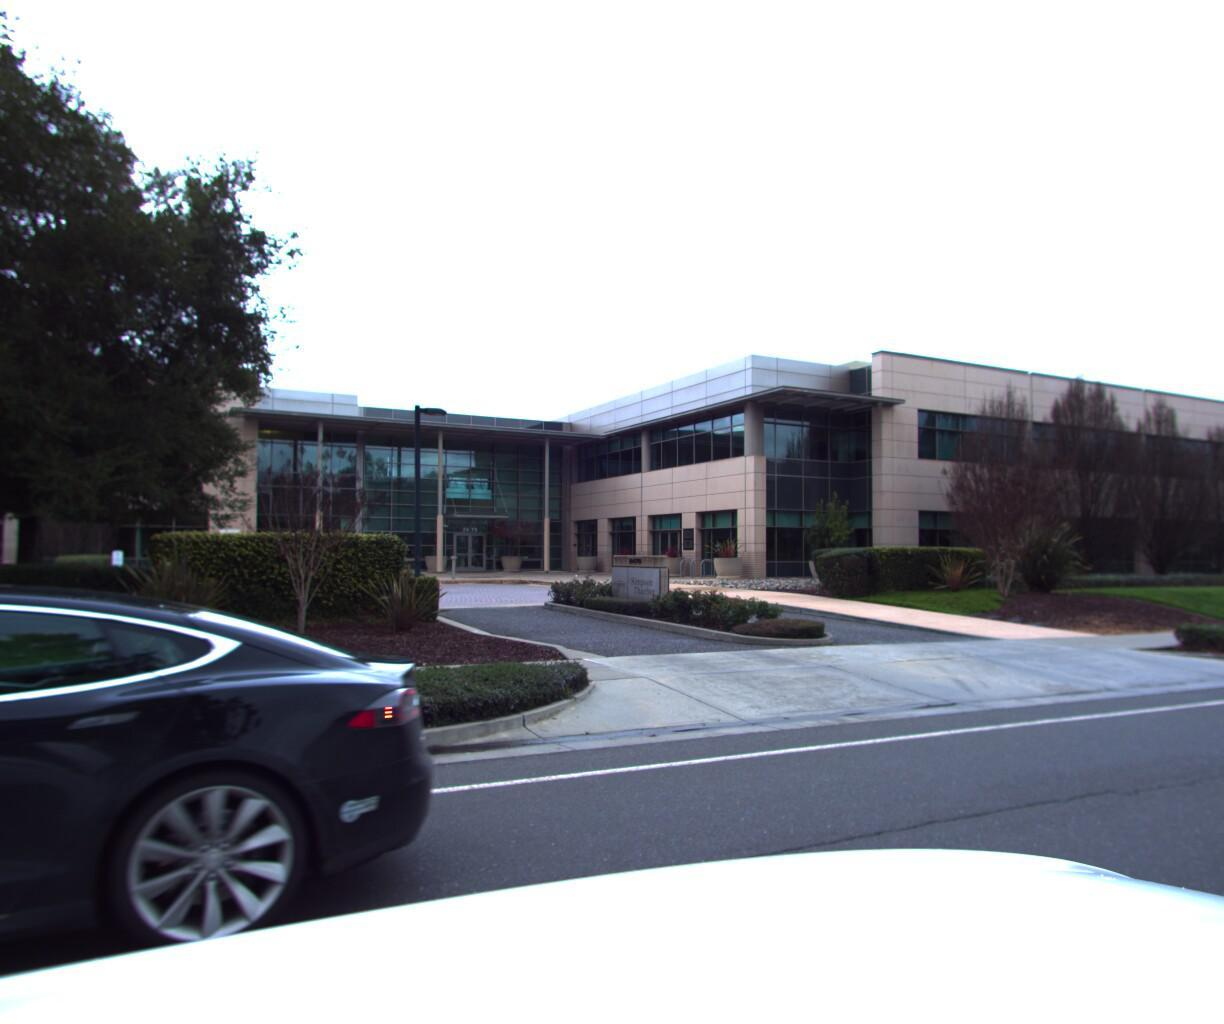car: (0, 573, 450, 1024)
